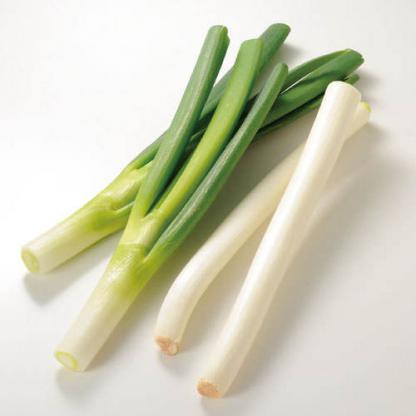green onion: (20, 24, 350, 283), (45, 18, 277, 376), (188, 80, 366, 382)
